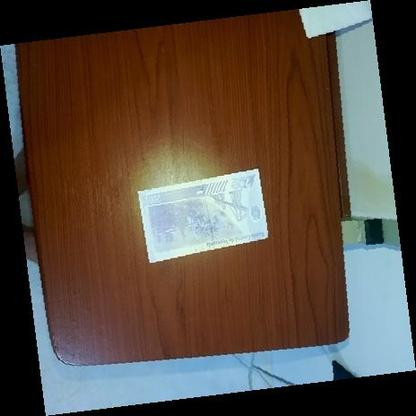vef_back: (137, 168, 269, 263)
